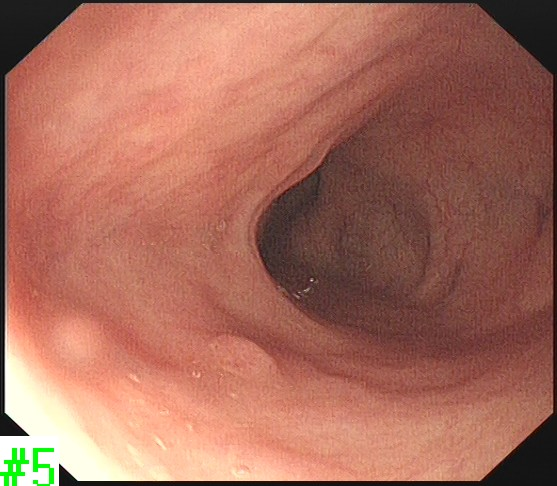adenoma: (204, 329, 285, 381)
